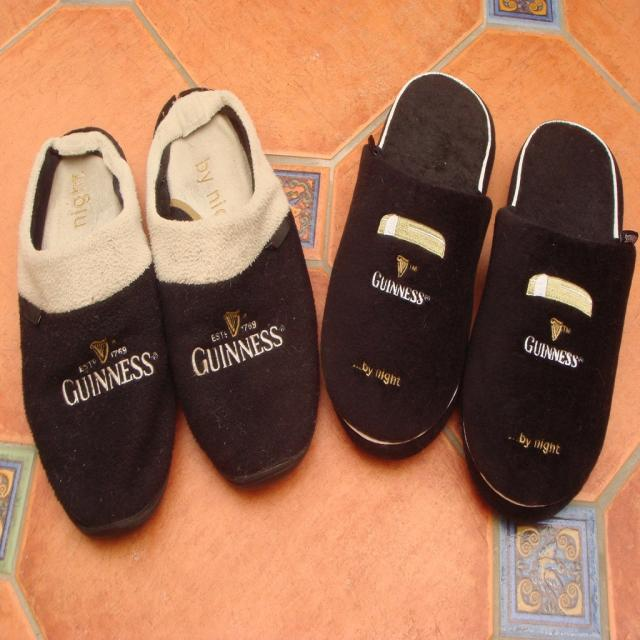guiness: (59, 337, 156, 411), (191, 309, 287, 381), (370, 255, 430, 310), (524, 317, 580, 371)
